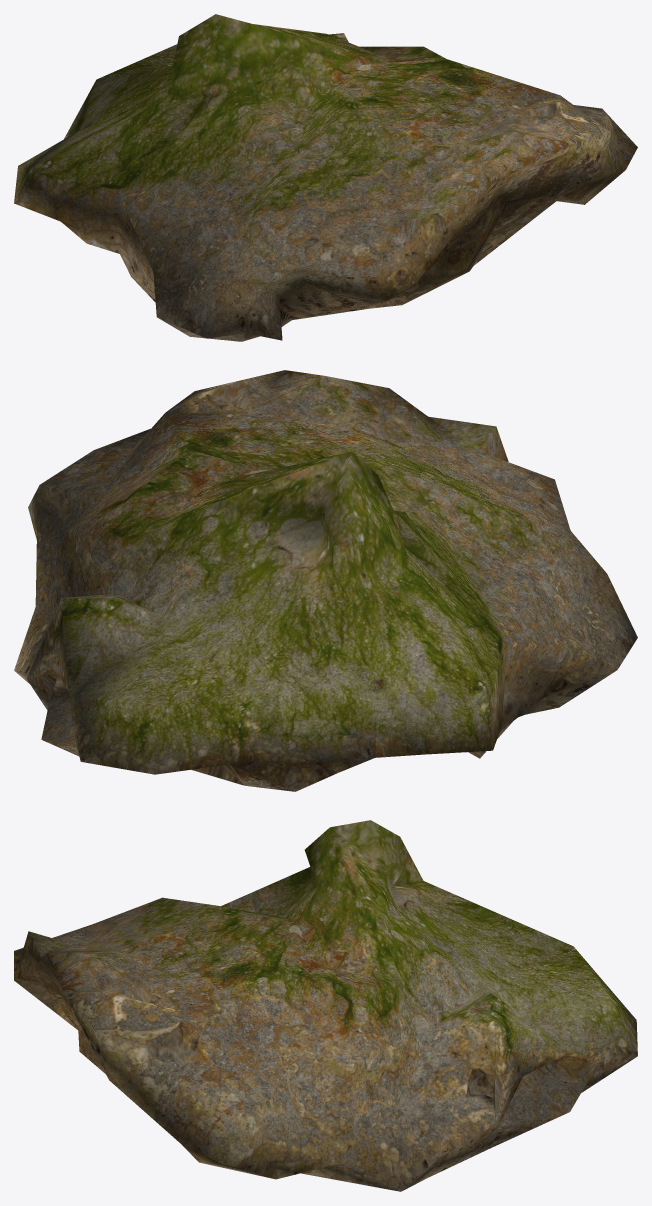
The model's file is thai_beach_coral_ufzleexfa_low.glb.
The picture shows the model from 3 angles, top to bottom: view 1: azimuth 30°, elevation 25°; view 2: azimuth 150°, elevation 25°; view 3: azimuth 270°, elevation 25°; orthographic projection. The views are drawn at different scales.
Parts seen in each view (by area): view 1: ufzleexfa_LOD0_TIER3_000; view 2: ufzleexfa_LOD0_TIER3_000; view 3: ufzleexfa_LOD0_TIER3_000.
Boxes of the visible parts, left/top/right/bottom form: ufzleexfa_LOD0_TIER3_000: left=14, top=14, right=637, bottom=341; ufzleexfa_LOD0_TIER3_000: left=14, top=370, right=637, bottom=791; ufzleexfa_LOD0_TIER3_000: left=14, top=820, right=637, bottom=1191.
Bounding box in the file's own units: 0.1259 × 0.061 × 0.1297.
1 material, 1 textured.
